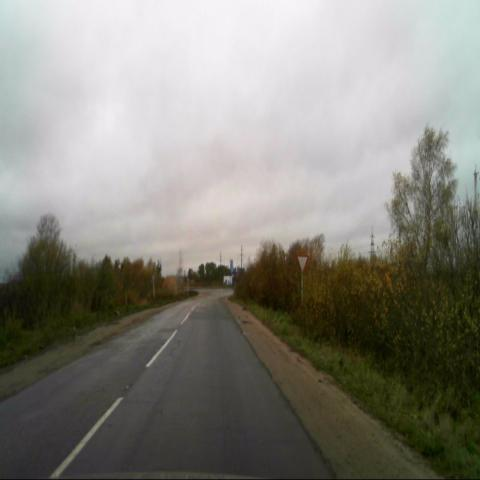2_4: (296, 253, 309, 273)
